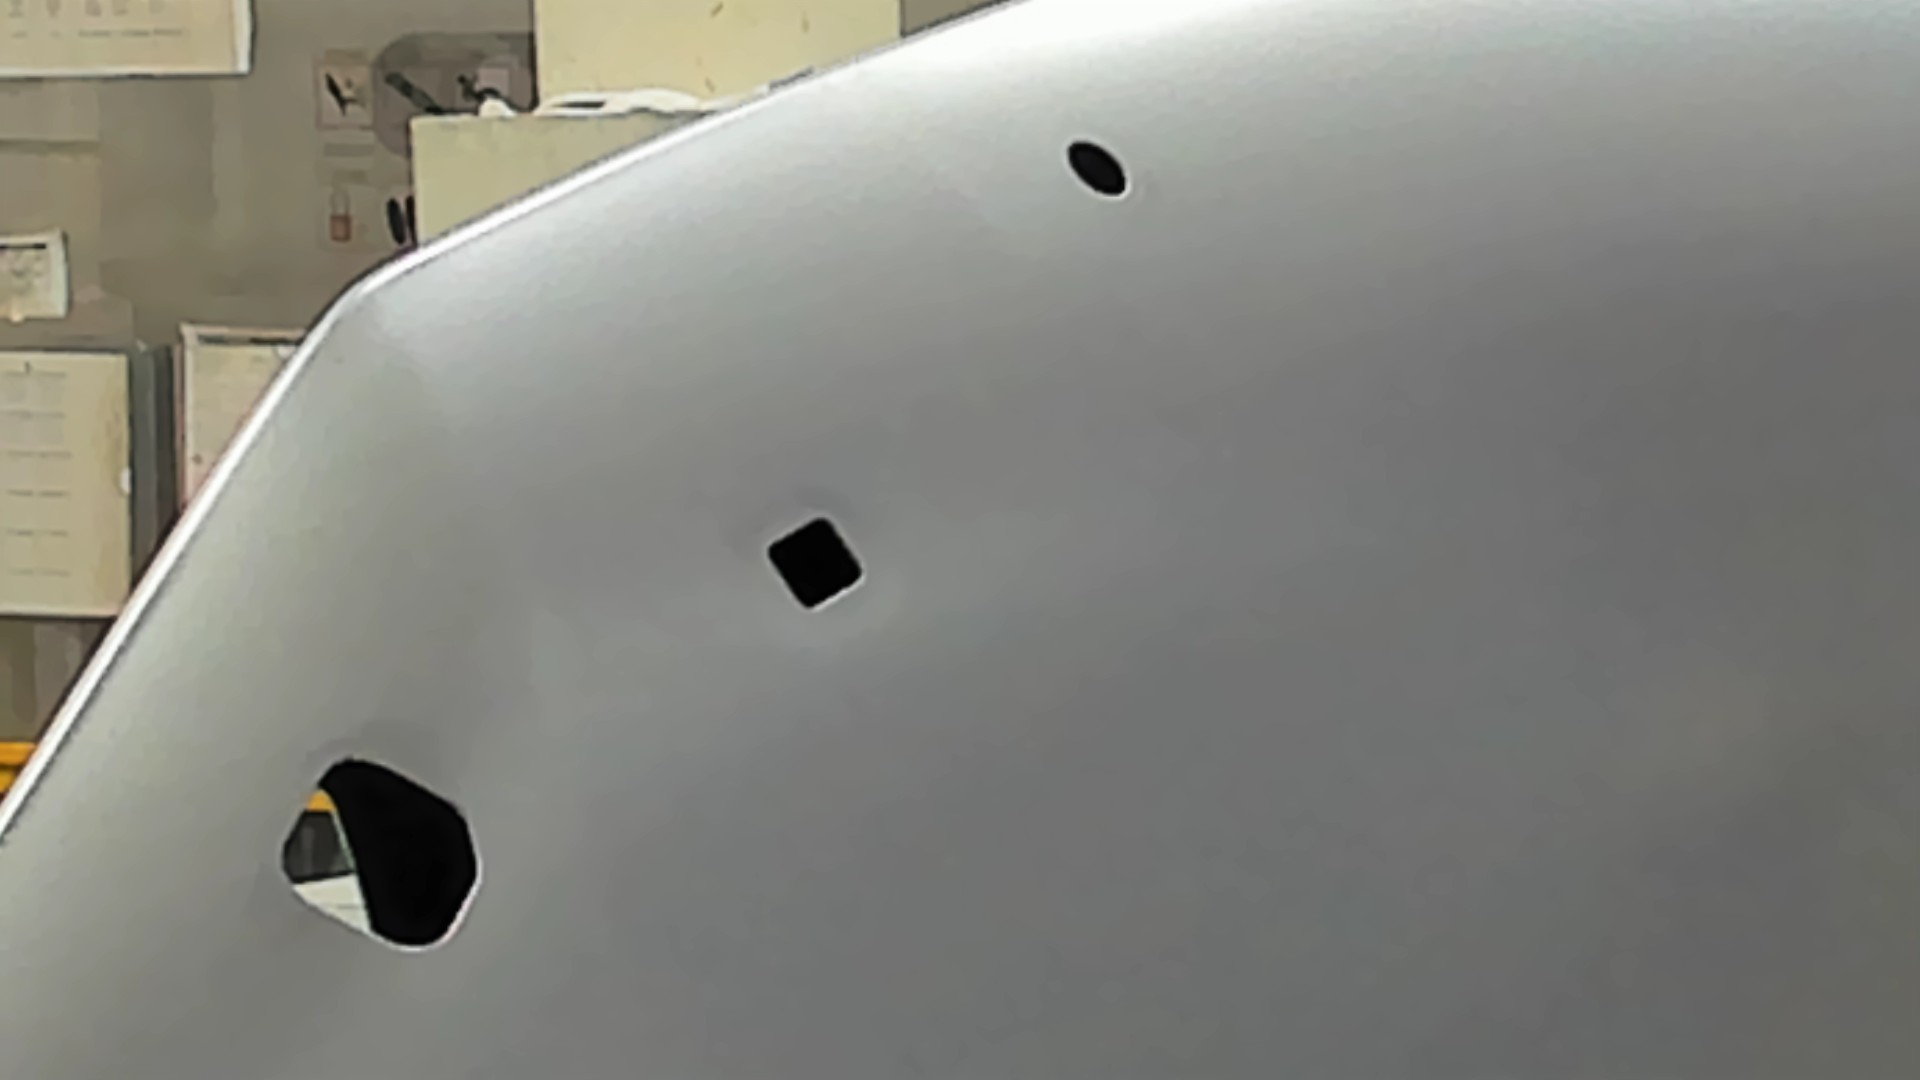chico: (1063, 137, 1130, 200)
grande: (280, 756, 483, 956)
mediano: (765, 516, 866, 613)
